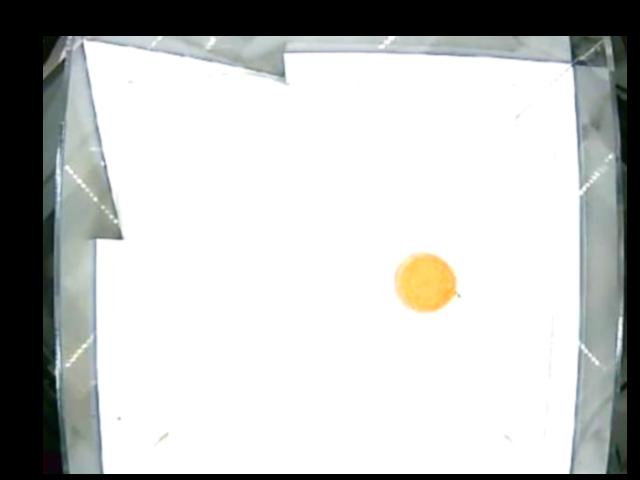Carrot: (394, 249, 456, 317)
